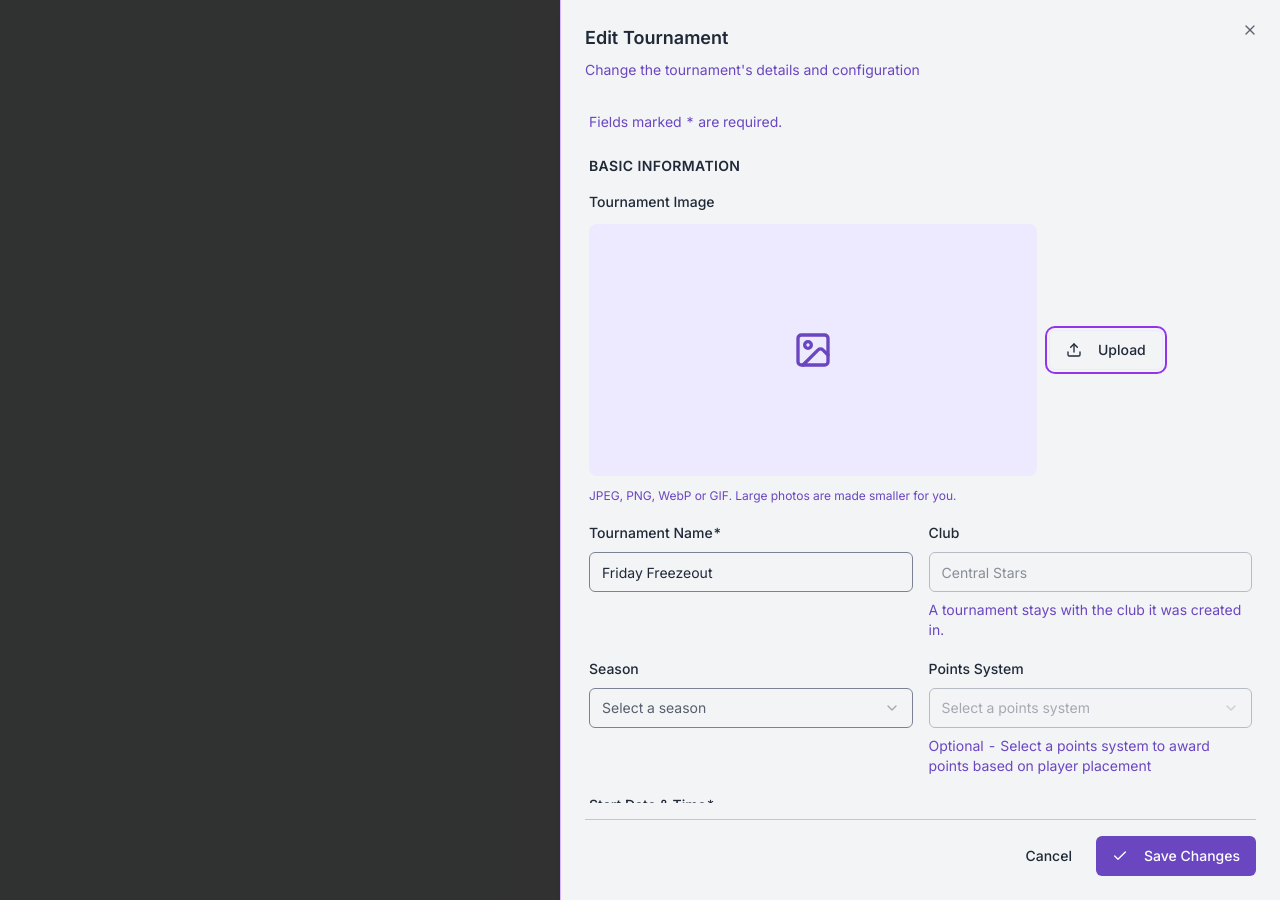
EditTournamentDialog (CA-14) › sends nothing when nothing was changed
Click the button with test id "save-tournament": (1176, 856) [1096,836,1256,876]
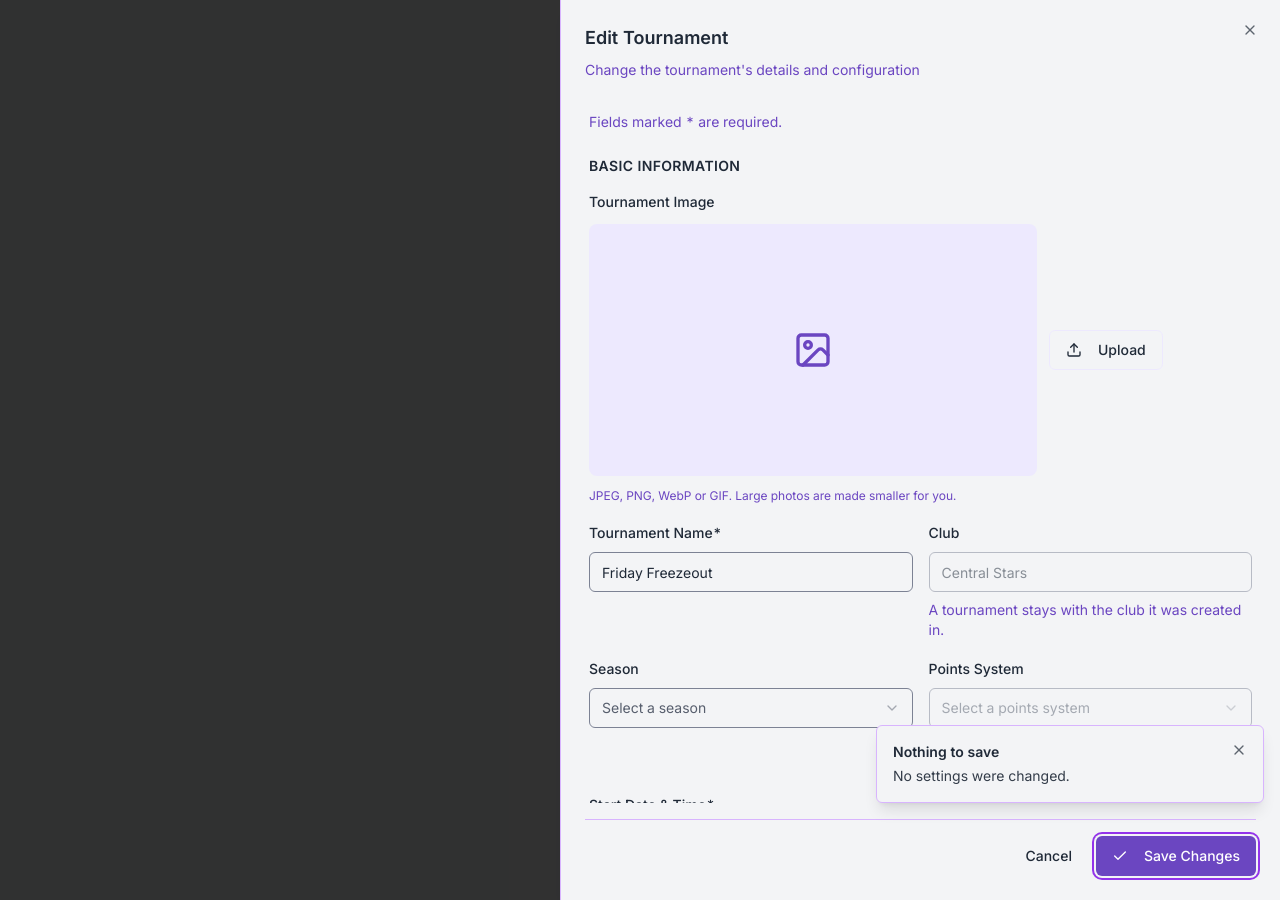
Check: the text "Nothing to save" is shown, box [893,743,999,760]
